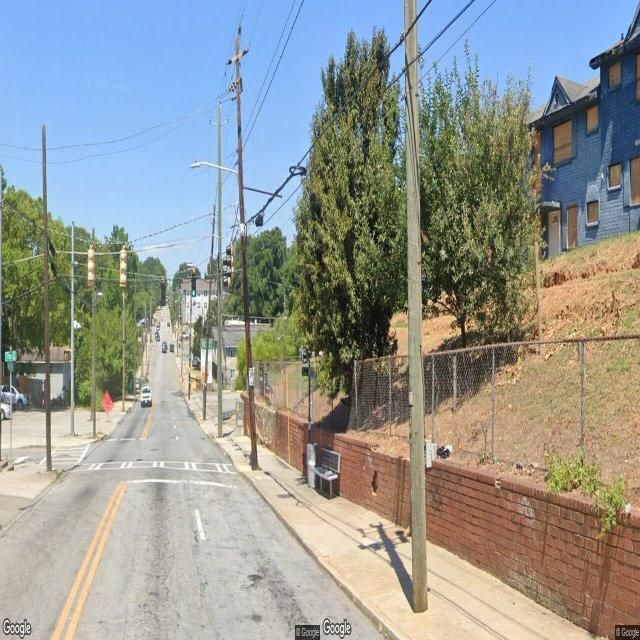seating: (313, 448, 341, 500)
trash_can: (306, 443, 319, 488)
